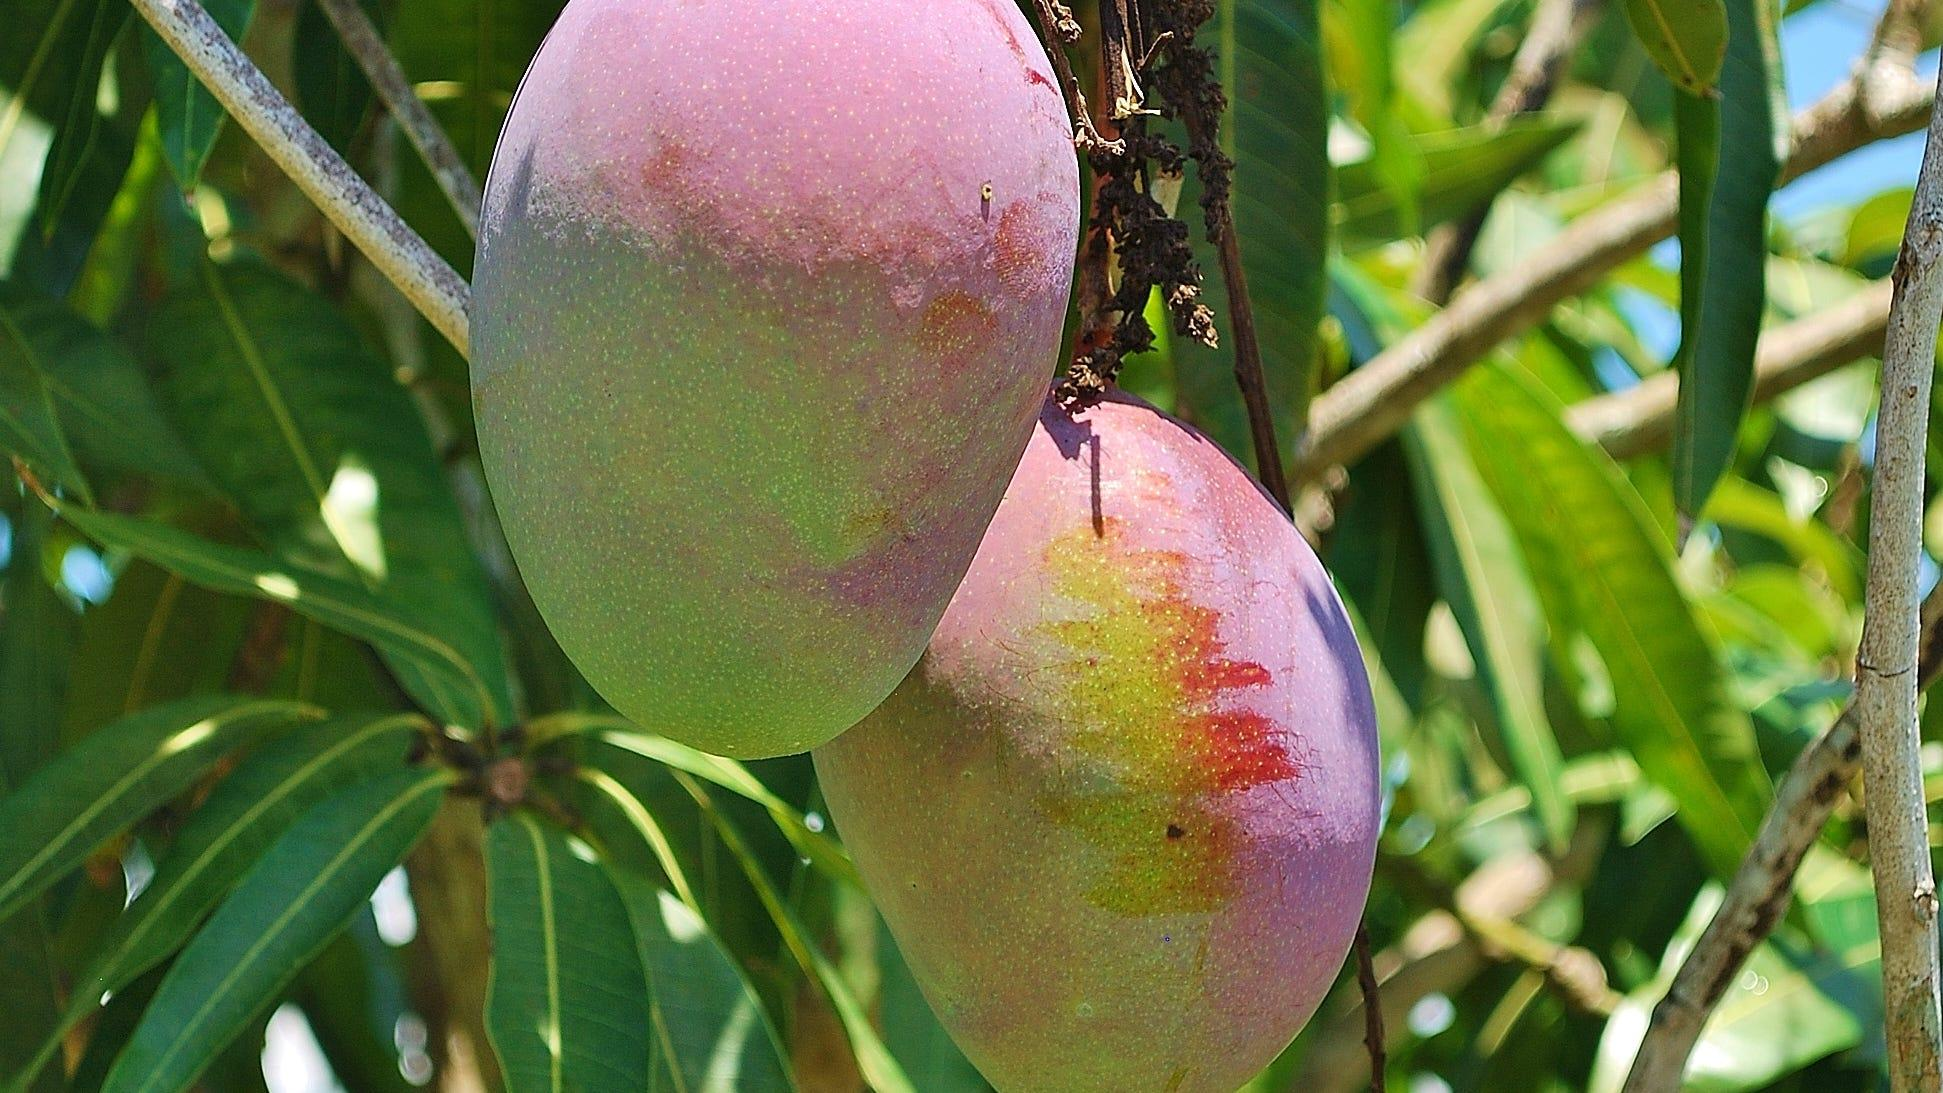mango: (454, 0, 1064, 766), (951, 388, 1379, 1093)
